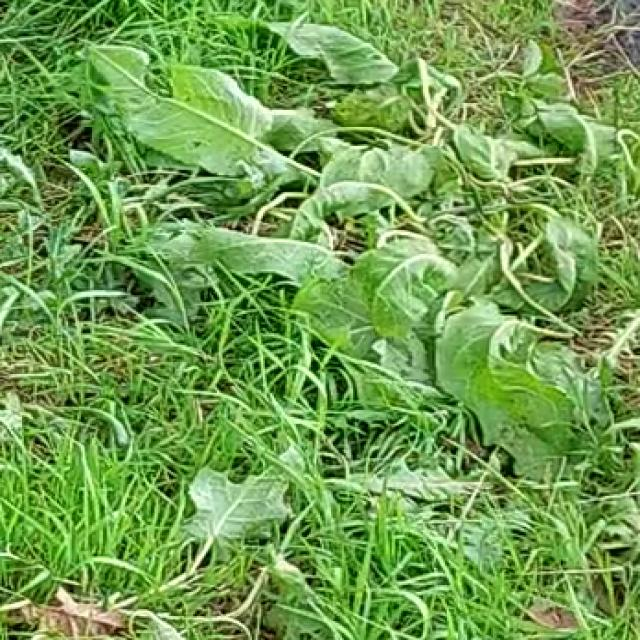organic waste: (210, 22, 581, 378)
